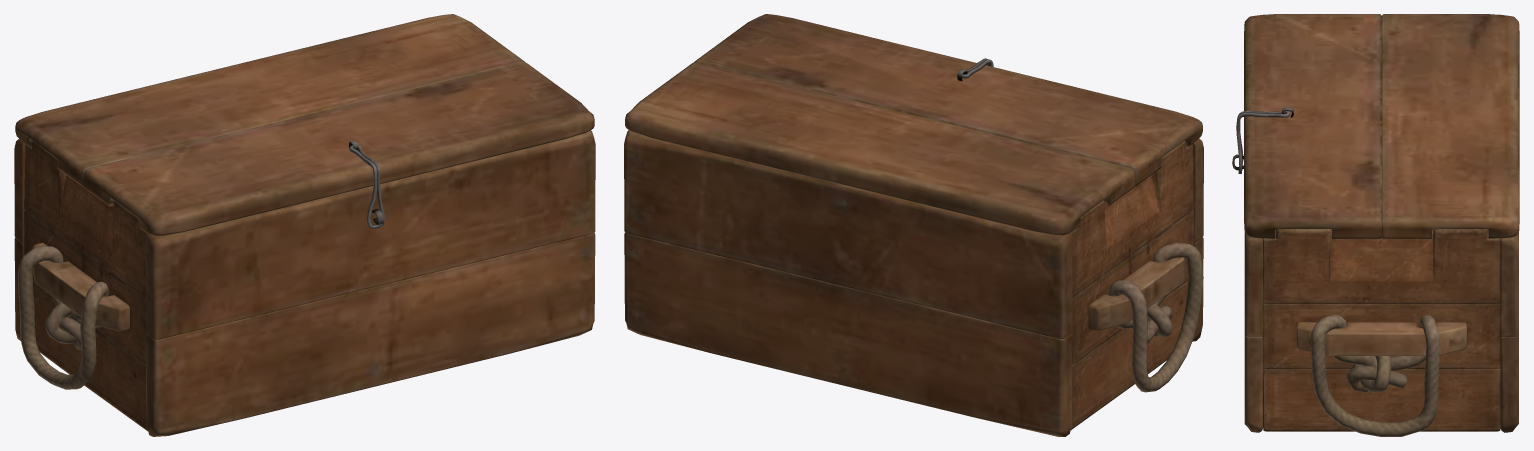
File: wooden_crate_01.glb
3 renders of one model, left to right at view 1: azimuth 30°, elevation 25°; view 2: azimuth 150°, elevation 25°; view 3: azimuth 270°, elevation 25°, orthographic. The views are drawn at different scales.
Parts seen in each view (by area): view 1: wooden_crate_01_lid; view 2: wooden_crate_01_lid; view 3: wooden_crate_01_lid.
Part boxes in pixels (x1,y1,x2,y2): wooden_crate_01_lid: [14, 14, 595, 436]; wooden_crate_01_lid: [624, 14, 1203, 436]; wooden_crate_01_lid: [1232, 14, 1519, 436].
Bounding box in the file's own units: 0.8253 × 0.3496 × 0.4089.
1 material, 1 textured.
